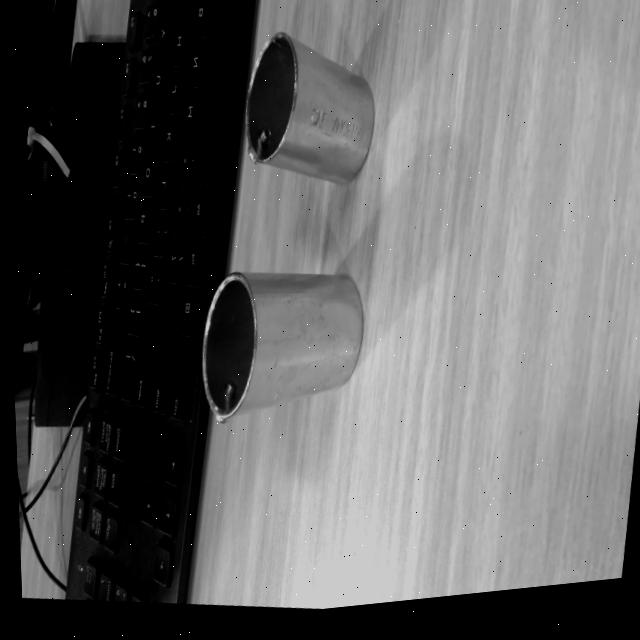Co_Lon: (201, 270, 364, 424)
Co_Nho: (232, 27, 391, 188)
